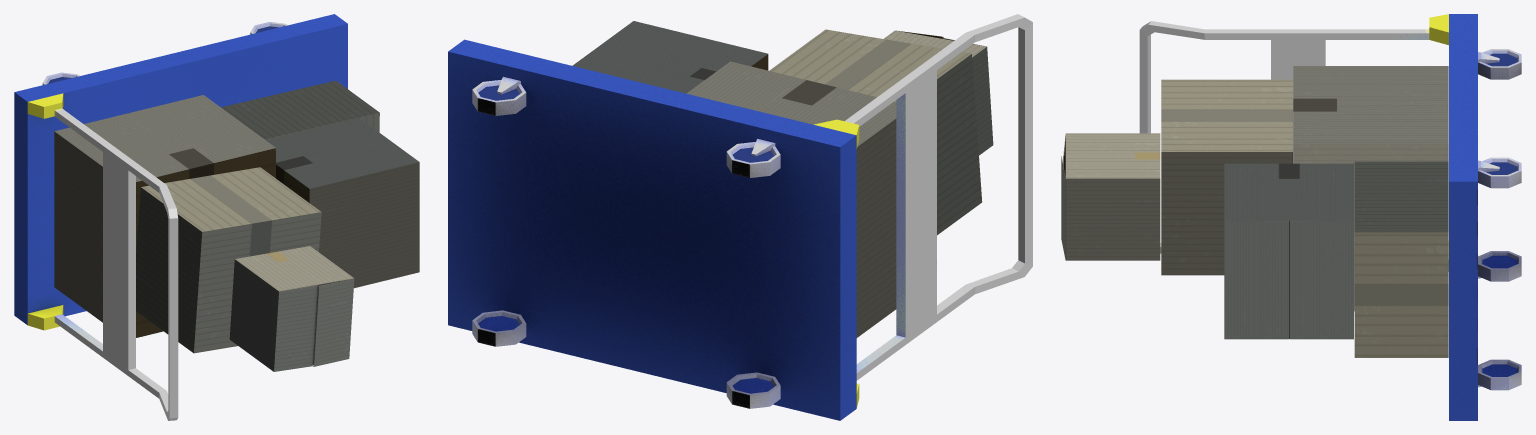
Rendered from TrolleyBox2.obj.
3 views of the same model, side by side, from view 1: azimuth 30°, elevation 25°; view 2: azimuth 150°, elevation 25°; view 3: azimuth 270°, elevation 25° (orthographic). The views are drawn at different scales.
Visible parts, largest first — view 1: Cart_Cube.001, sealed.001_sealedTAPE_Cube.002, close.002, close.003, open_Cube.001, sealed.001_sealedTAPE_Cube.001; view 2: Cart_Cube.001, close.002, sealed.001_sealedTAPE_Cube.002, close.003, open_Cube.001; view 3: Cart_Cube.001, close.003, sealed.001_sealedTAPE_Cube.001, sealed.001_sealedTAPE_Cube.002, close.002, open_Cube.001.
Boxes of the visible parts, bbox=[...] form: Cart_Cube.001: bbox=[14, 14, 347, 420]; sealed.001_sealedTAPE_Cube.002: bbox=[136, 167, 321, 353]; close.002: bbox=[54, 95, 275, 337]; close.003: bbox=[266, 118, 419, 288]; open_Cube.001: bbox=[229, 246, 354, 371]; sealed.001_sealedTAPE_Cube.001: bbox=[221, 80, 379, 140]; Cart_Cube.001: bbox=[448, 14, 1032, 420]; close.002: bbox=[686, 61, 896, 337]; sealed.001_sealedTAPE_Cube.002: bbox=[769, 29, 982, 235]; close.003: bbox=[572, 21, 768, 93]; open_Cube.001: bbox=[884, 30, 993, 155]; Cart_Cube.001: bbox=[1139, 14, 1521, 420]; close.003: bbox=[1224, 163, 1353, 339]; sealed.001_sealedTAPE_Cube.001: bbox=[1354, 161, 1448, 357]; sealed.001_sealedTAPE_Cube.002: bbox=[1161, 79, 1292, 275]; close.002: bbox=[1293, 66, 1448, 311]; open_Cube.001: bbox=[1061, 133, 1160, 260].
Bounding box in the file's own units: 0.9029 × 0.6 × 1.05.
5 materials, 5 textured.
